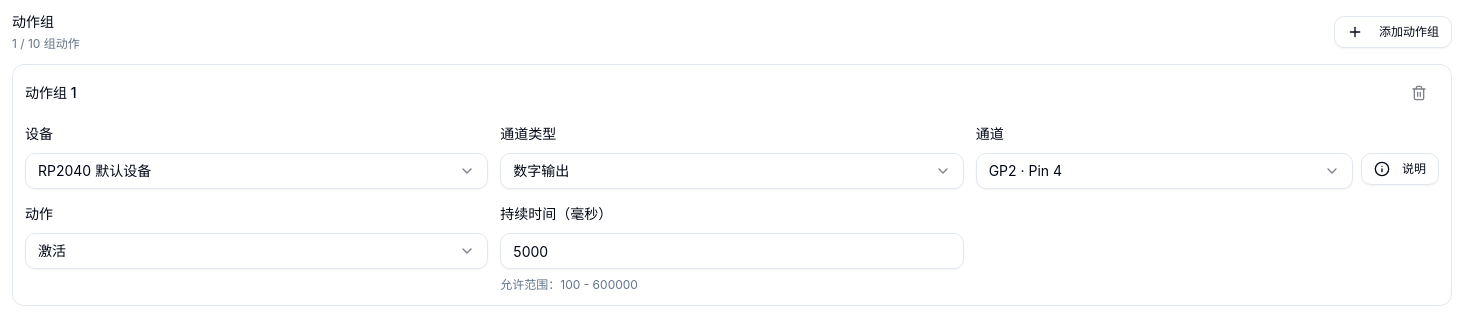
Test: DeviceChannelOutputFields › uses configured device channels when provided instead of all board pins
Click the dropdown named "通道": {"x": 1025, "y": 170} top-left (976, 153), bottom-right (1353, 189)
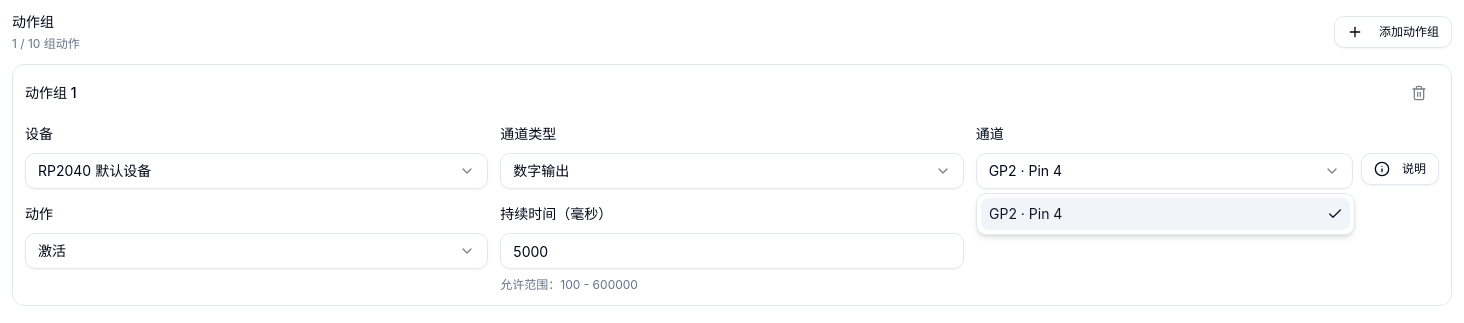
Now the option "GP2 · Pin 4" is shown, box top-left (981, 198), bottom-right (1350, 230)
